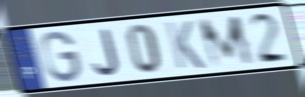0: (125, 22, 163, 76)
2: (246, 12, 290, 65)
G: (39, 29, 83, 84)
J: (91, 27, 121, 78)
K: (163, 19, 208, 71)
M: (196, 13, 258, 70)
